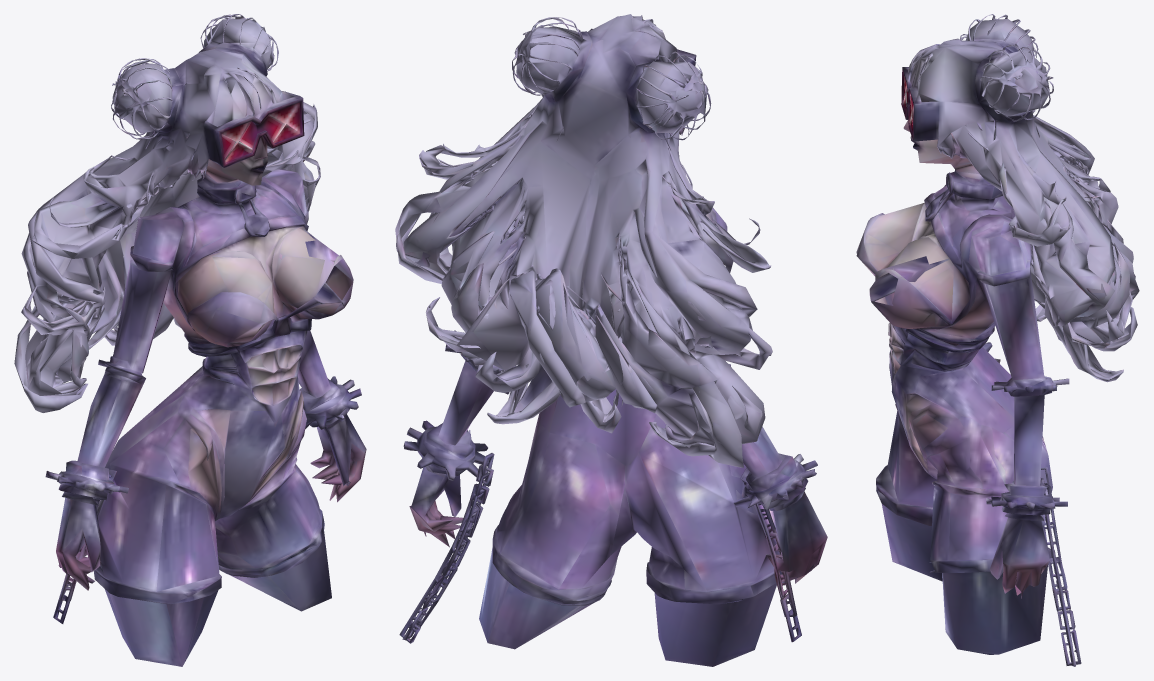
The model's file is girl-4.glb.
3 renders of one model, left to right at view 1: azimuth 30°, elevation 25°; view 2: azimuth 150°, elevation 25°; view 3: azimuth 270°, elevation 25°, orthographic. The views are drawn at different scales.
Visible parts, largest first — view 1: material; view 2: material; view 3: material.
Boxes of the visible parts, <box> form: material: <box>14,14,366,666</box>; material: <box>395,14,827,666</box>; material: <box>856,14,1139,666</box>.
Size of the model in its own units: 0.6356 by 1.03 by 0.4642.
Materials: 1 (1 with a texture image).
